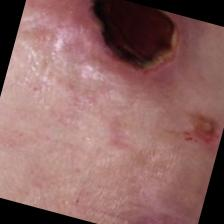pressure-wound: (48, 0, 193, 96)
